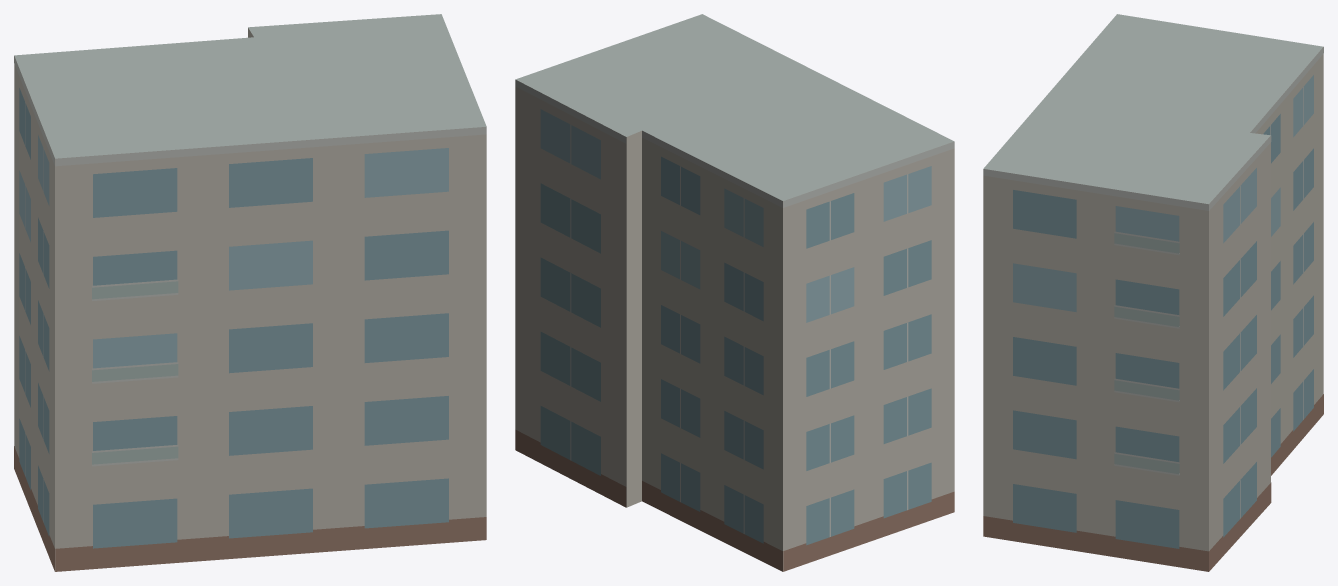
The model's file is survey-upis-32966606.glb.
3 views of the same model, side by side, from view 1: azimuth 30°, elevation 25°; view 2: azimuth 150°, elevation 25°; view 3: azimuth 270°, elevation 25° (orthographic). The views are drawn at different scales.
Parts seen in each view (by area): view 1: survey-upis-32966606.tmp; view 2: survey-upis-32966606.tmp; view 3: survey-upis-32966606.tmp.
Boxes of the visible parts, left/top/right/bottom form: survey-upis-32966606.tmp: left=14, top=14, right=486, bottom=571; survey-upis-32966606.tmp: left=515, top=14, right=954, bottom=571; survey-upis-32966606.tmp: left=983, top=14, right=1323, bottom=571.
Size of the model in its own units: 14.6 by 13.15 by 11.05.
